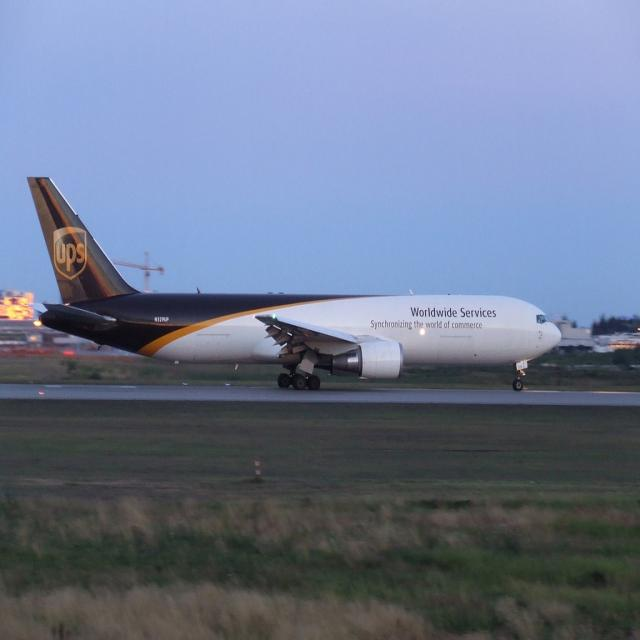ups: (54, 228, 89, 280)
